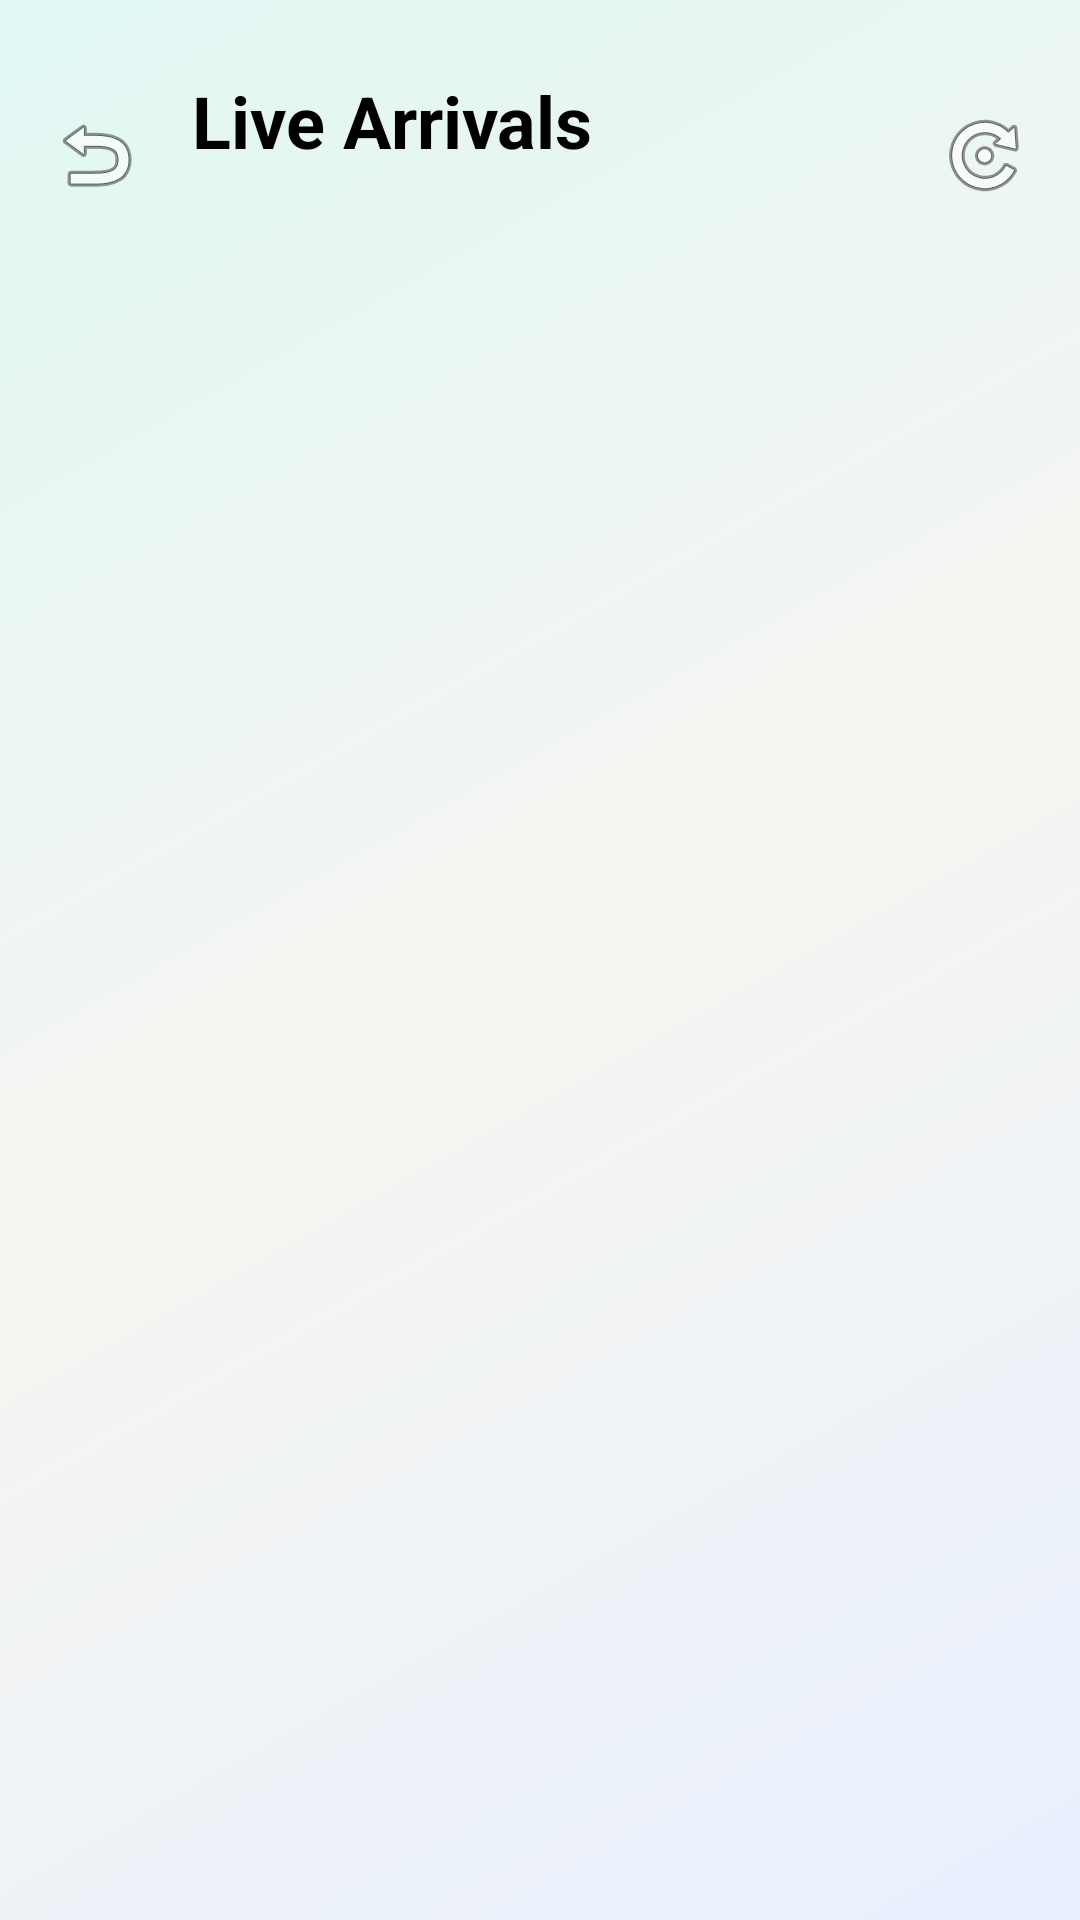

Point at icon controls on the screen. Image size 1080x1920, points as (x,y).
revert: (97,155)
rotate: (984,155)
